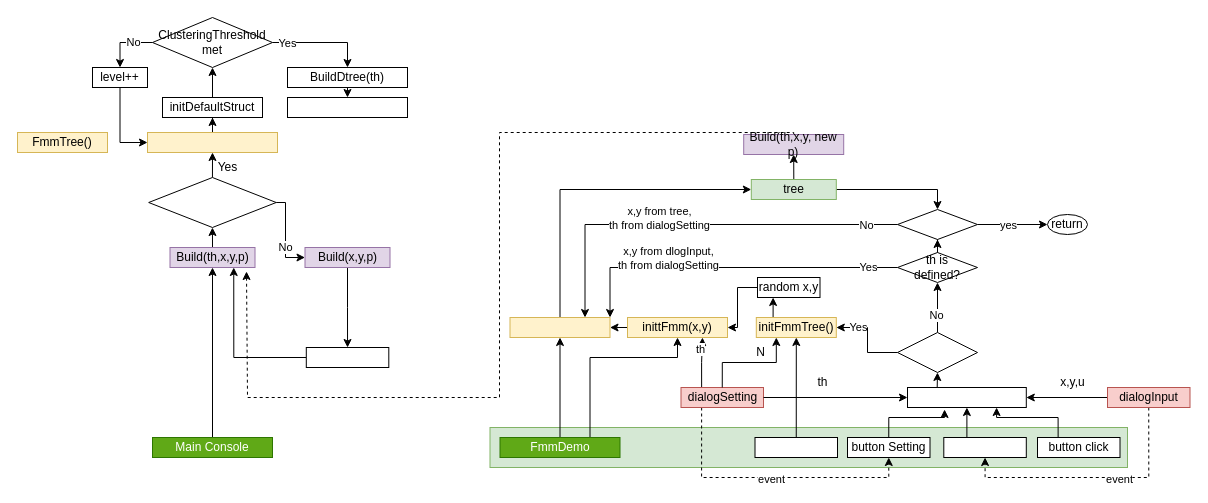
This 1208x503 diagram has some shape labels left out. The box of each missing label's shape, as (x1, y1, x2, y2) in pixels:
BuildCForest(th): (286, 96, 408, 118)
button Input: (943, 436, 1026, 458)
button New: (754, 436, 838, 458)
Clusteringt hreshold is defined: (148, 176, 276, 228)
define th: (305, 346, 389, 368)
FmmTree(x,y,p): (146, 132, 278, 152)
inittFmm(x,y,p): (509, 316, 610, 338)
reinit(x,y,u,th): (906, 386, 1026, 408)
tree = null?: (896, 208, 978, 240)
x,y,th s null?: (896, 332, 978, 372)
